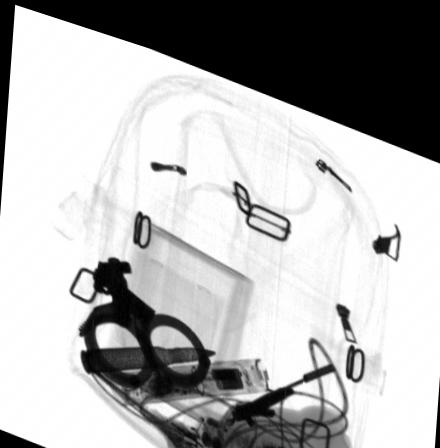Baton: (108, 339, 275, 399)
Bullet: (81, 333, 221, 368)
Gun: (230, 341, 336, 409)
HandCuffs: (77, 248, 212, 378)
